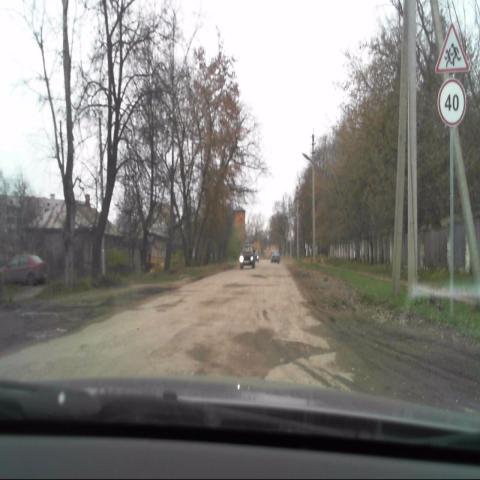1_23: (436, 22, 470, 74)
